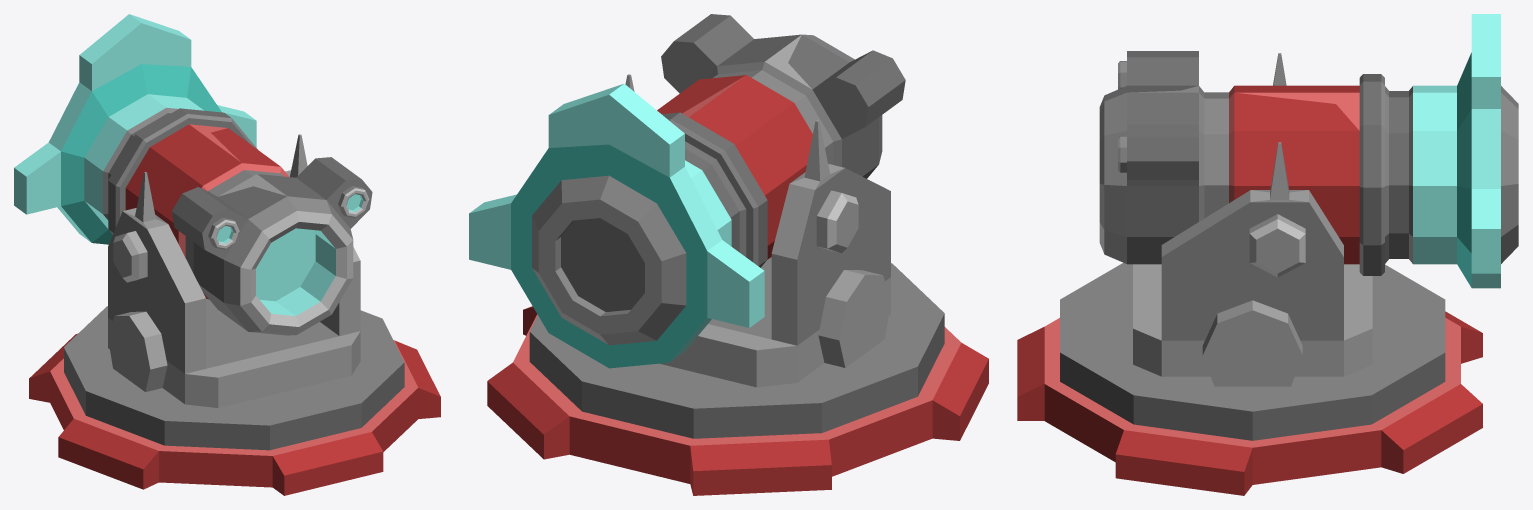
Rendered from tower_plasma_red_3.fbx.
The picture shows the model from 3 angles, left to right: view 1: azimuth 30°, elevation 25°; view 2: azimuth 150°, elevation 25°; view 3: azimuth 270°, elevation 25°; orthographic projection. The views are drawn at different scales.
Parts seen in each view (by area): view 1: top_plasma_red_3, tower_plasma_red_3; view 2: top_plasma_red_3, tower_plasma_red_3; view 3: top_plasma_red_3, tower_plasma_red_3.
Boxes of the visible parts, x1,y1,x2,y2 form: top_plasma_red_3: [14, 14, 372, 407]; tower_plasma_red_3: [29, 306, 440, 495]; top_plasma_red_3: [469, 14, 905, 387]; tower_plasma_red_3: [487, 263, 988, 495]; top_plasma_red_3: [1099, 14, 1518, 386]; tower_plasma_red_3: [1017, 263, 1482, 495].
Size of the model in its own units: 159 by 135 by 162.
